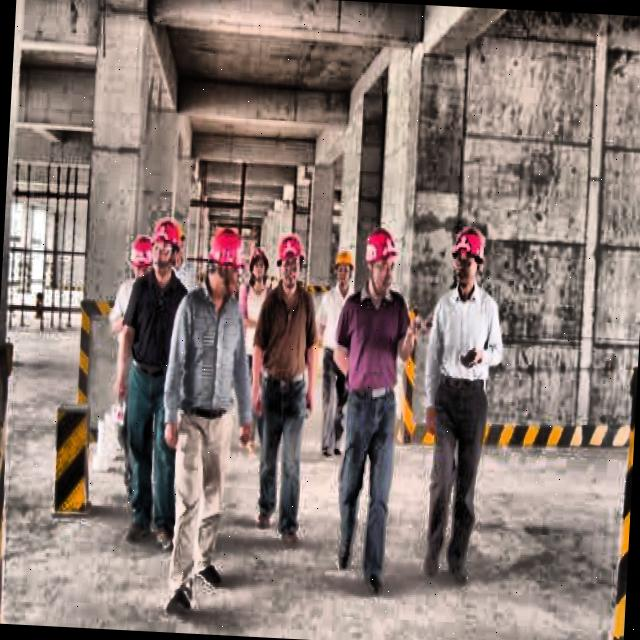helmet: (204, 219, 246, 303), (447, 220, 487, 295), (361, 223, 402, 294), (152, 216, 188, 279), (276, 227, 306, 296), (128, 232, 156, 281), (332, 246, 358, 298), (245, 244, 272, 288)
